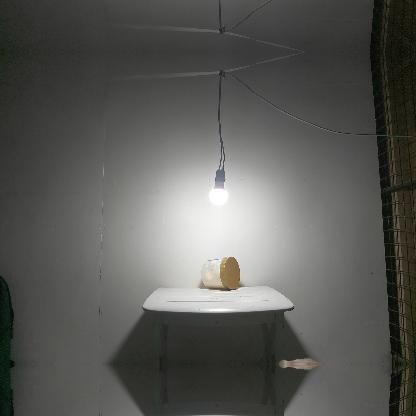Lady-s-Choice: (200, 254, 242, 290)
